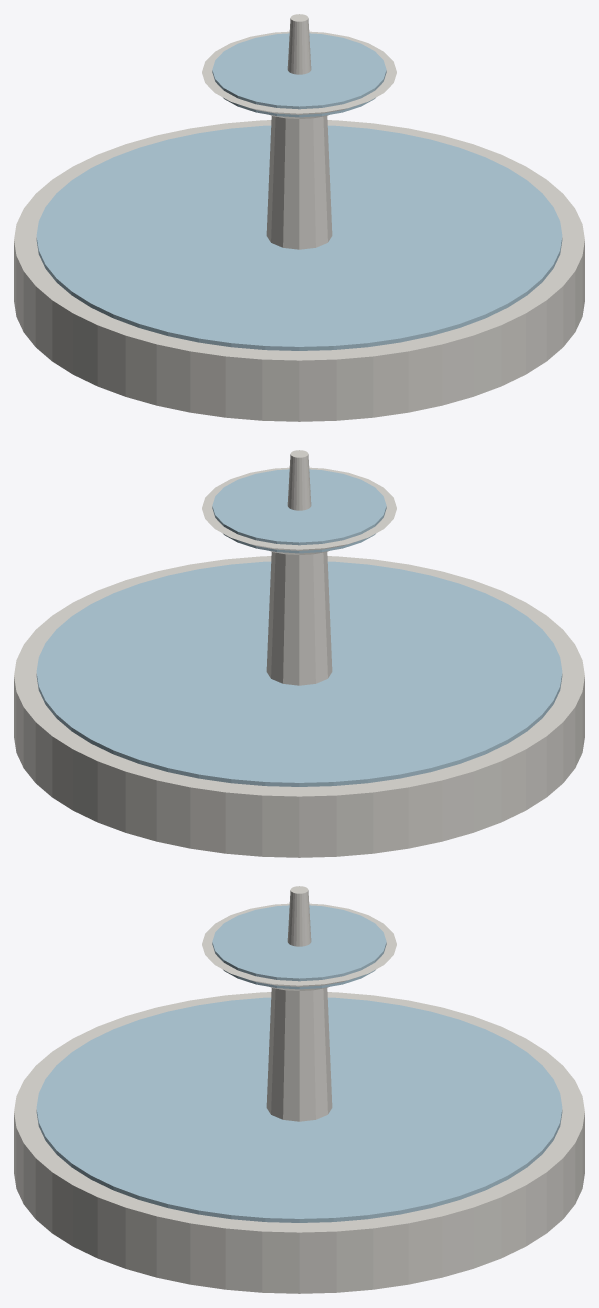
File: fountain.glb
3 renders of one model, top to bottom at view 1: azimuth 30°, elevation 25°; view 2: azimuth 150°, elevation 25°; view 3: azimuth 270°, elevation 25°, orthographic.
Parts seen in each view (by area): view 1: fountain; view 2: fountain; view 3: fountain.
Part boxes in pixels (<box>): fountain: <box>14,14,584,421</box>; fountain: <box>14,450,584,857</box>; fountain: <box>14,886,584,1293</box>.
Size of the model in its own units: 1.83 by 1 by 1.83.
